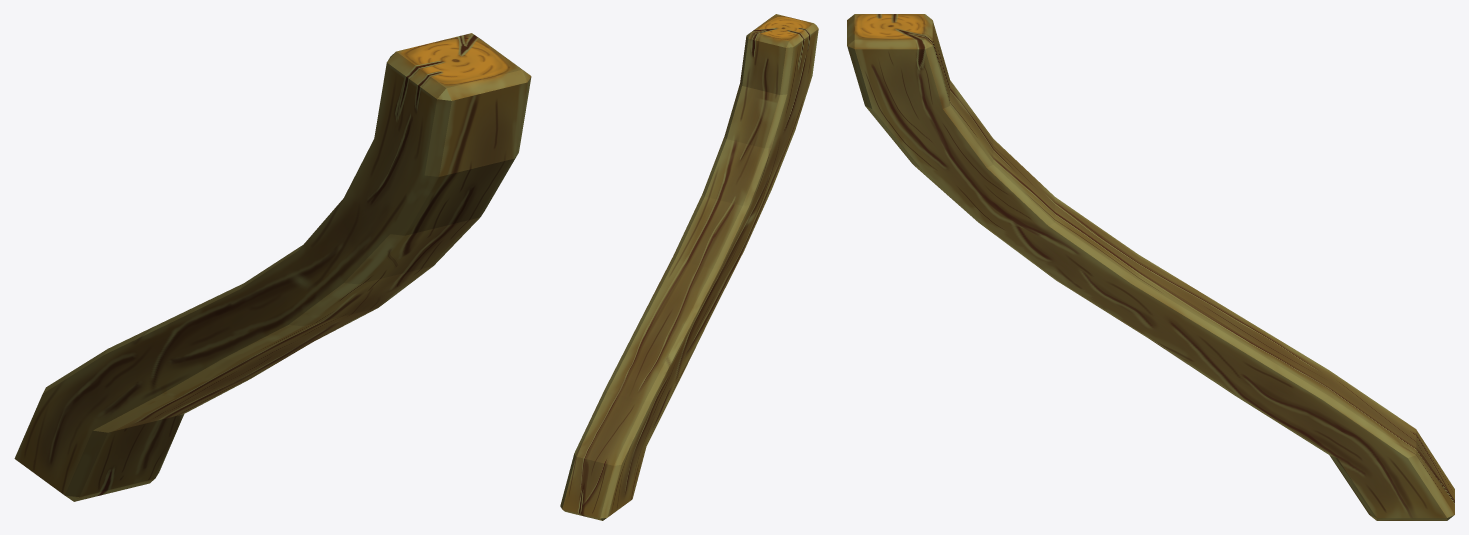
The model's file is Base_balk_roof_1.fbx.
3 renders of one model, left to right at view 1: azimuth 30°, elevation 25°; view 2: azimuth 150°, elevation 25°; view 3: azimuth 270°, elevation 25°, orthographic. The views are drawn at different scales.
Visible parts, largest first — view 1: WallWoodV.181; view 2: WallWoodV.181; view 3: WallWoodV.181.
Boxes of the visible parts, x1=… form: WallWoodV.181: x1=14, y1=33, x2=531, y2=501; WallWoodV.181: x1=560, y1=14, x2=818, y2=520; WallWoodV.181: x1=847, y1=14, x2=1454, y2=520.
Size of the model in its own units: 0.3379 by 2.35 by 2.69.
